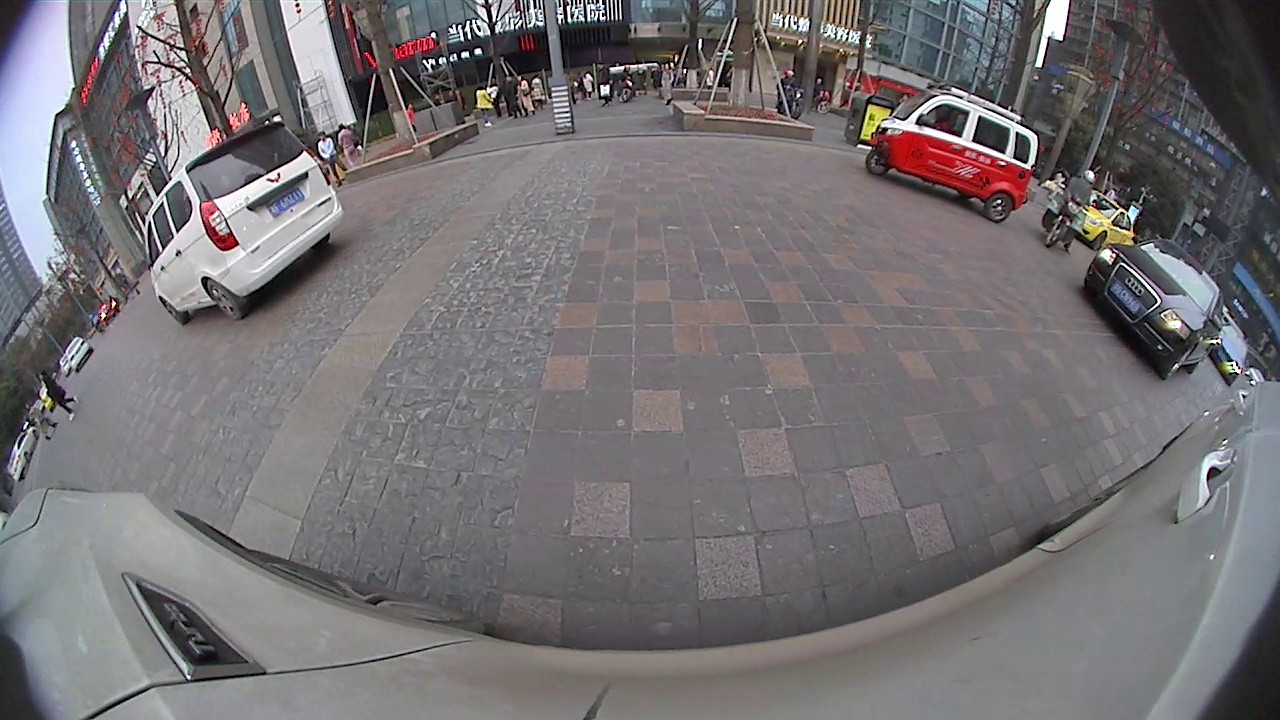car: (142, 121, 346, 326), (1081, 237, 1226, 382), (1073, 188, 1136, 251), (64, 335, 95, 373)
front: (864, 147, 894, 178)
person: (317, 131, 334, 189), (39, 368, 52, 423)
rear: (200, 275, 248, 325), (982, 190, 1015, 226)
rider: (864, 80, 1039, 224), (1036, 168, 1099, 252)
